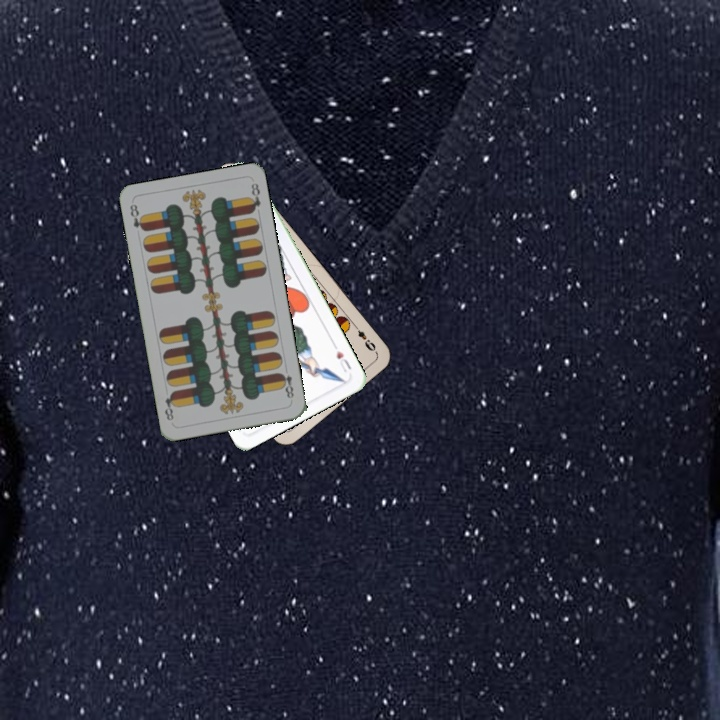E8: (276, 363, 296, 401), (126, 200, 148, 234)
E9: (349, 320, 378, 354)
HU: (329, 340, 354, 375)
